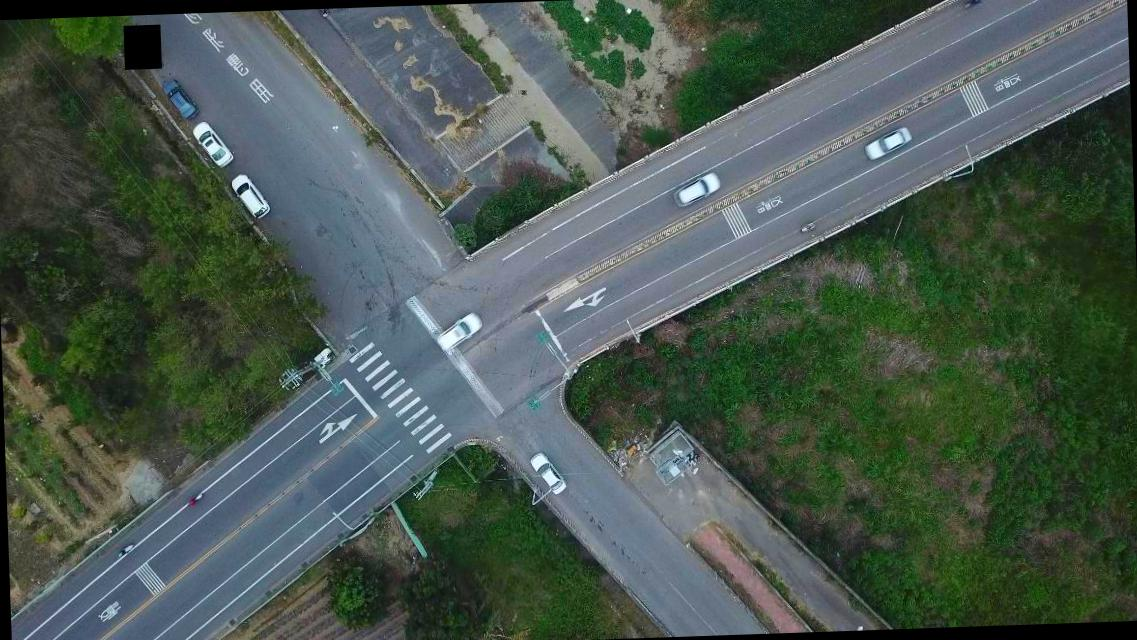vehicle: (188, 122, 234, 169), (433, 313, 483, 350), (232, 173, 270, 220), (860, 127, 914, 160), (674, 168, 720, 206), (530, 452, 566, 494), (162, 78, 198, 120)
